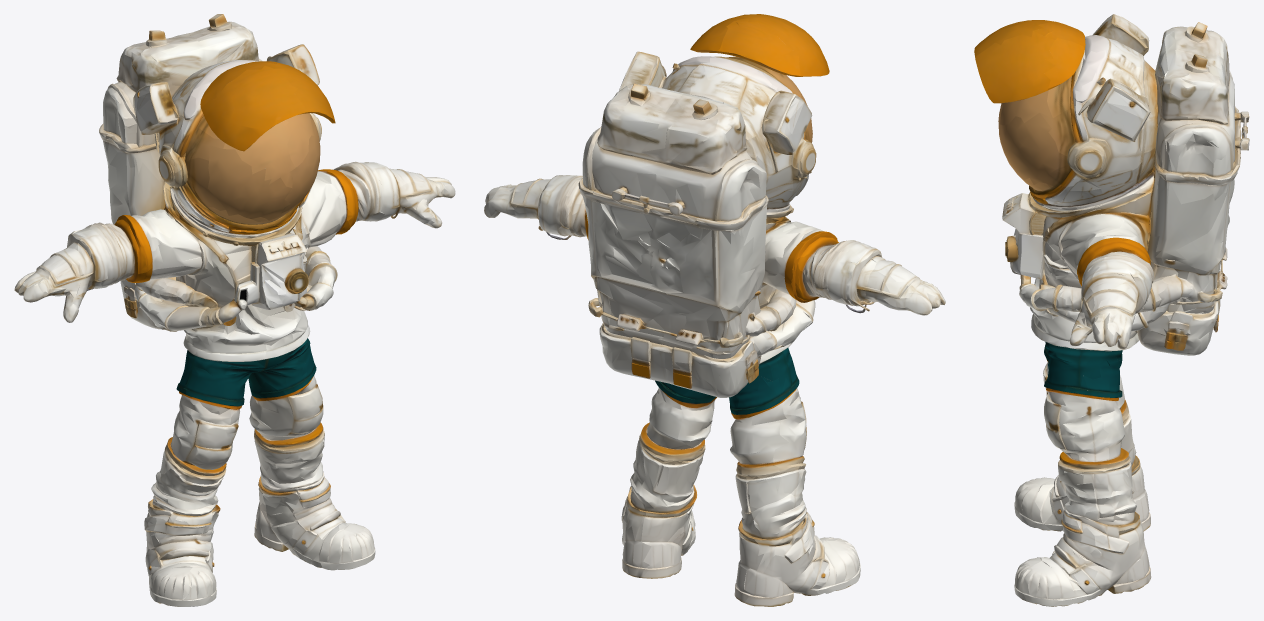
File: astronauts_30k.glb
3 renders of one model, left to right at view 1: azimuth 30°, elevation 25°; view 2: azimuth 150°, elevation 25°; view 3: azimuth 270°, elevation 25°, orthographic. The views are drawn at different scales.
Parts seen in each view (by area): view 1: output_unwrapped; view 2: output_unwrapped; view 3: output_unwrapped.
Boxes of the visible parts, box(x1,y1,x2,y2) form: output_unwrapped: box(14, 14, 455, 606); output_unwrapped: box(484, 14, 945, 606); output_unwrapped: box(974, 14, 1249, 606).
Size of the model in its own units: 1.68 by 1.9 by 0.8997.
Materials: 1 (1 with a texture image).
